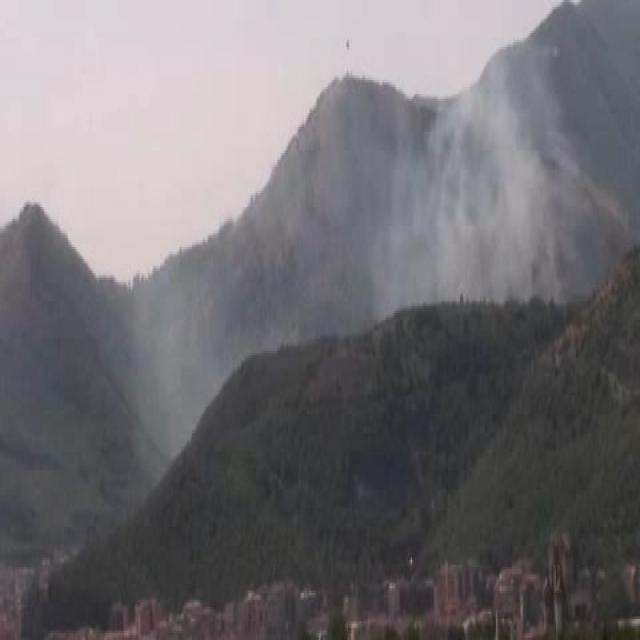smoke: (371, 47, 564, 308)
